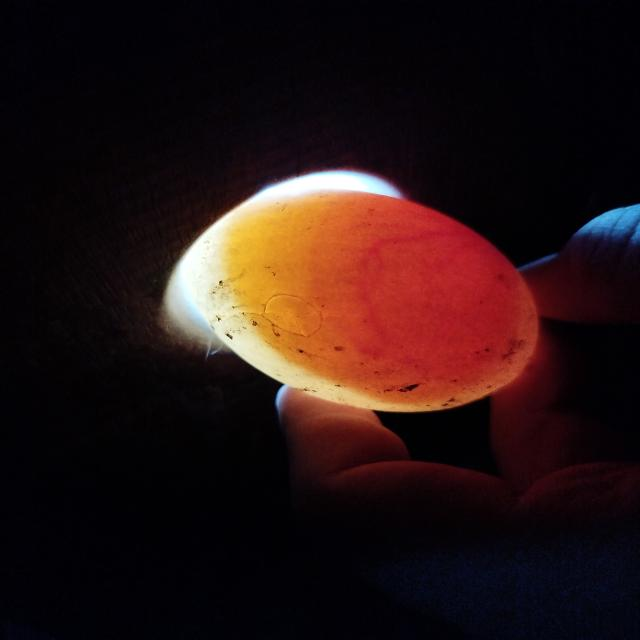Rachadura: (260, 295, 323, 337)
